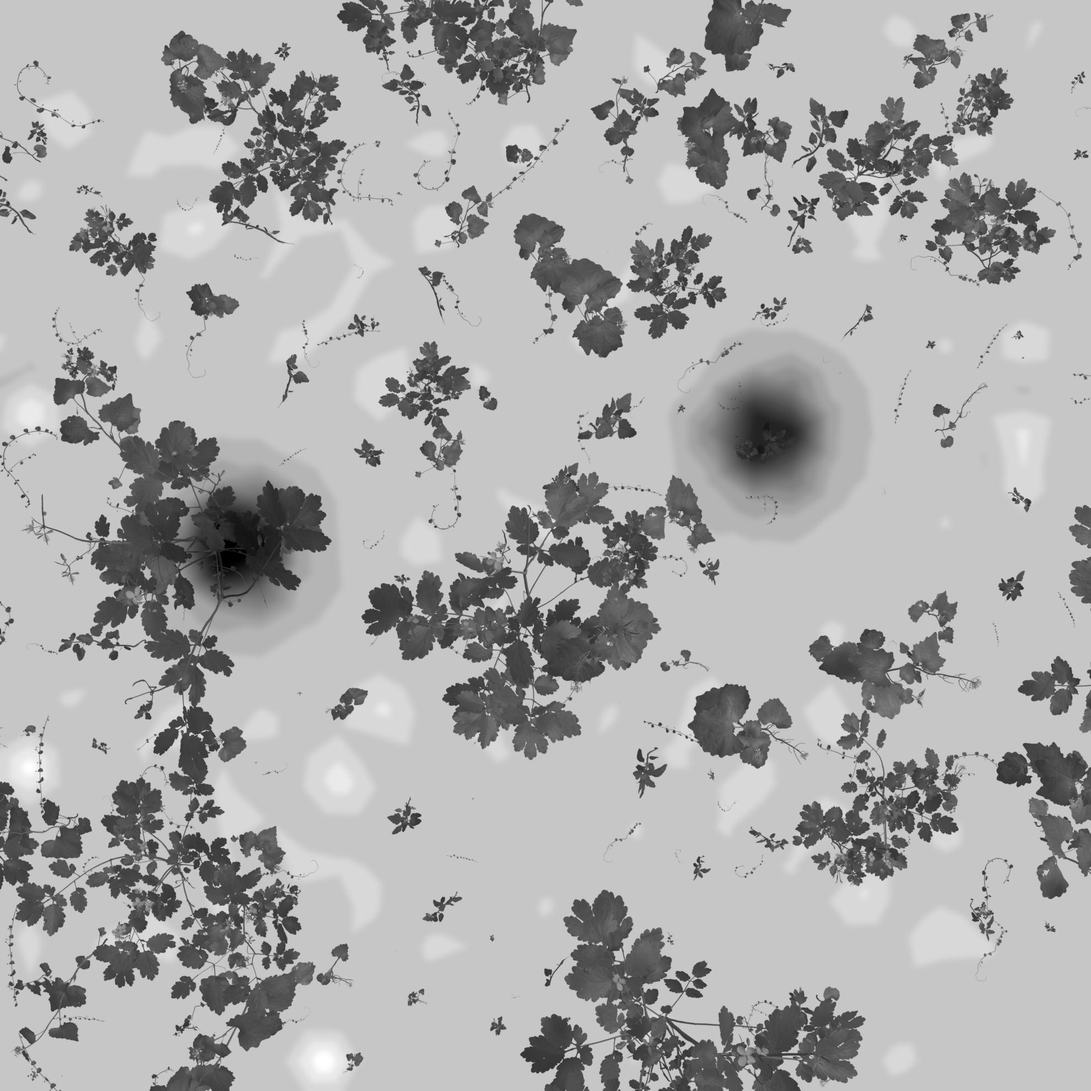landmine: (168, 477, 309, 613), (699, 368, 840, 500)
